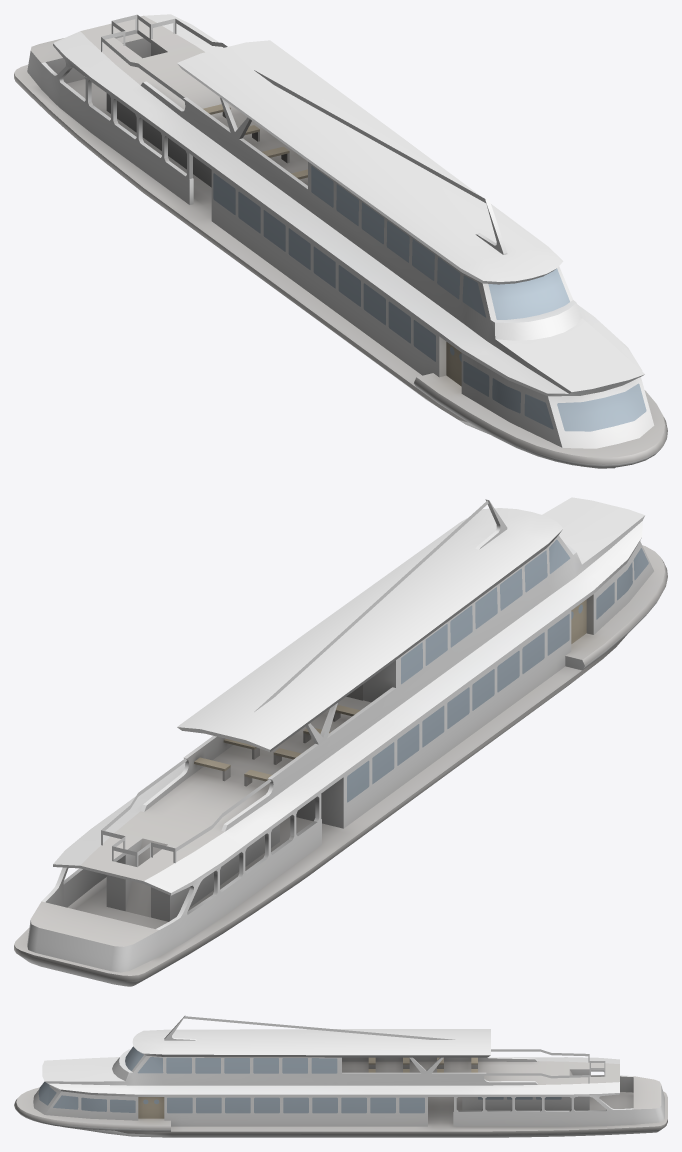
Rendered from watertram.glb.
The picture shows the model from 3 angles, top to bottom: view 1: azimuth 30°, elevation 25°; view 2: azimuth 150°, elevation 25°; view 3: azimuth 270°, elevation 25°; orthographic projection. The views are drawn at different scales.
Visible parts, largest first — view 1: watertram; view 2: watertram; view 3: watertram.
Boxes of the visible parts, x1,y1,x2,y2 form: watertram: (14,14,667,468); watertram: (14,497,667,986); watertram: (14,1015,667,1137).
Size of the model in its own units: 6.71 by 6.59 by 38.31.
Materials: 1 (1 with a texture image).
